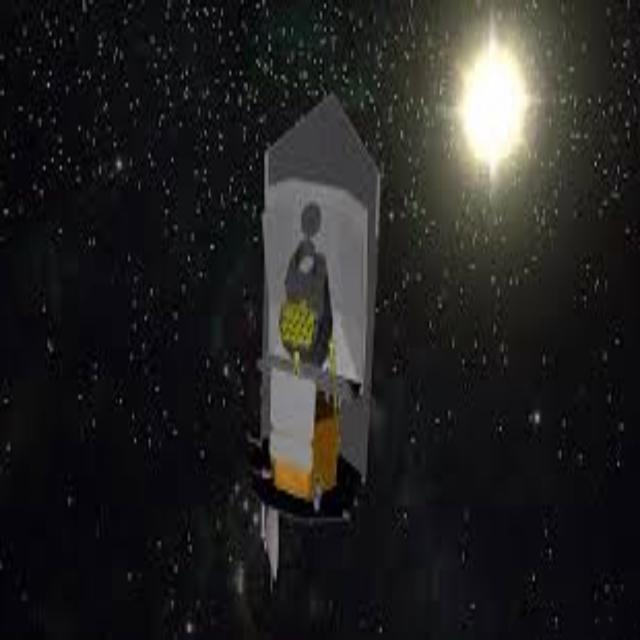satellite: (227, 81, 412, 613)
